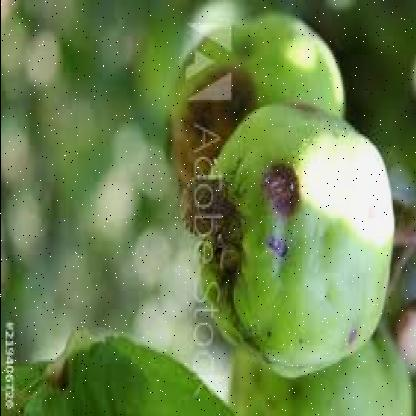damaged_apple: (201, 104, 390, 372), (163, 11, 345, 241)
